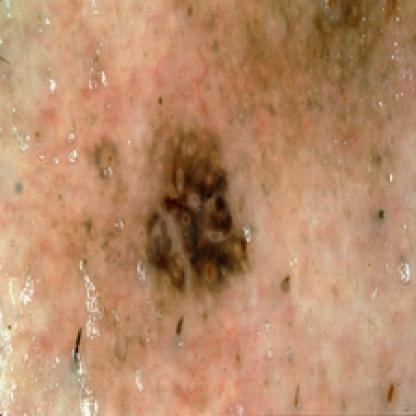malignant: (134, 87, 247, 303)
